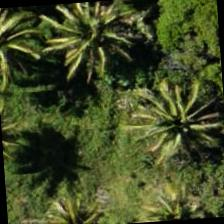Kelapa_Sawit: (124, 72, 220, 168), (40, 0, 136, 79), (128, 169, 220, 223)
